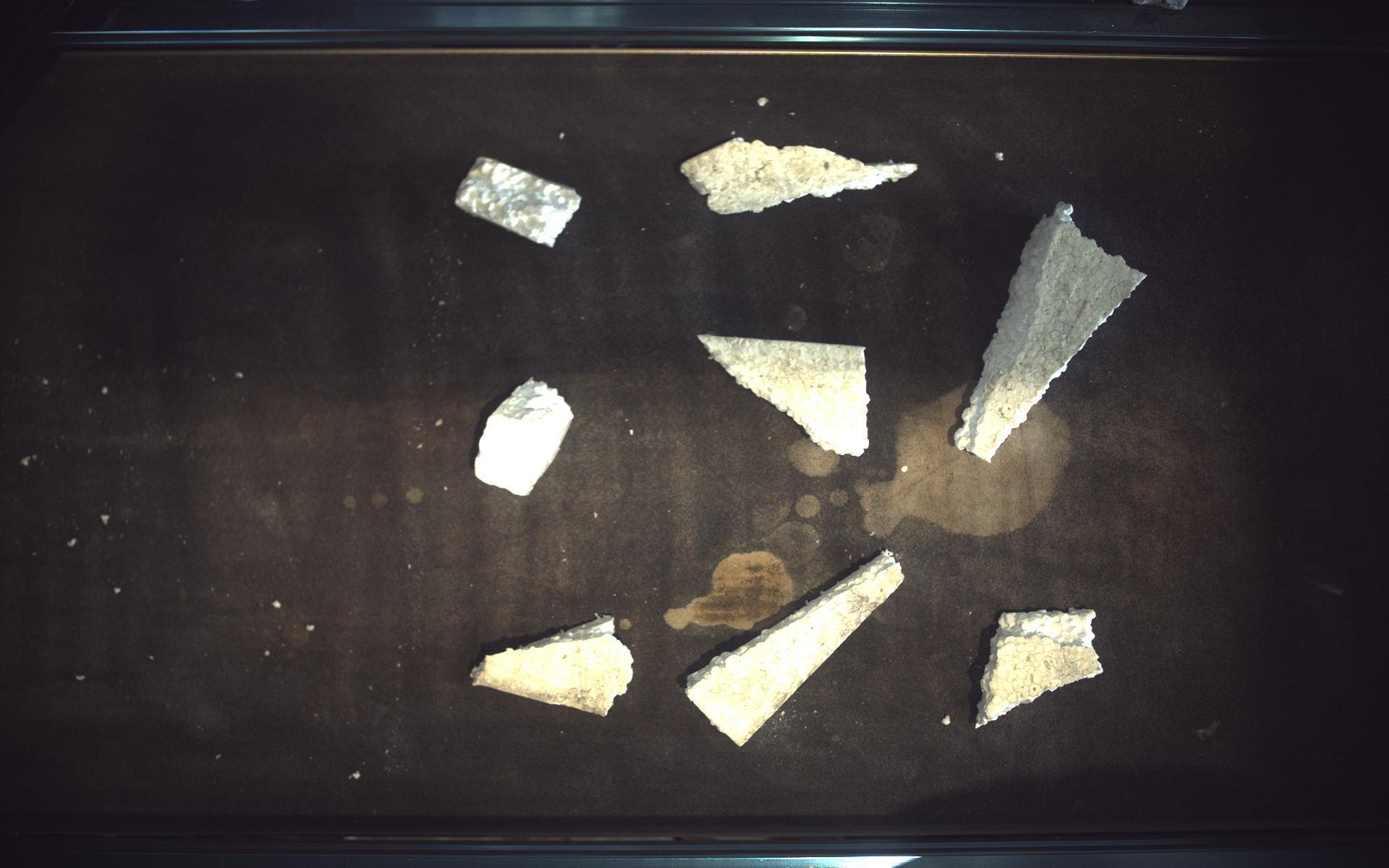foam: (956, 201, 1147, 461), (689, 553, 906, 747), (700, 334, 872, 456), (681, 137, 919, 213), (472, 616, 634, 717), (977, 610, 1105, 729), (475, 379, 574, 496), (455, 157, 582, 246)
